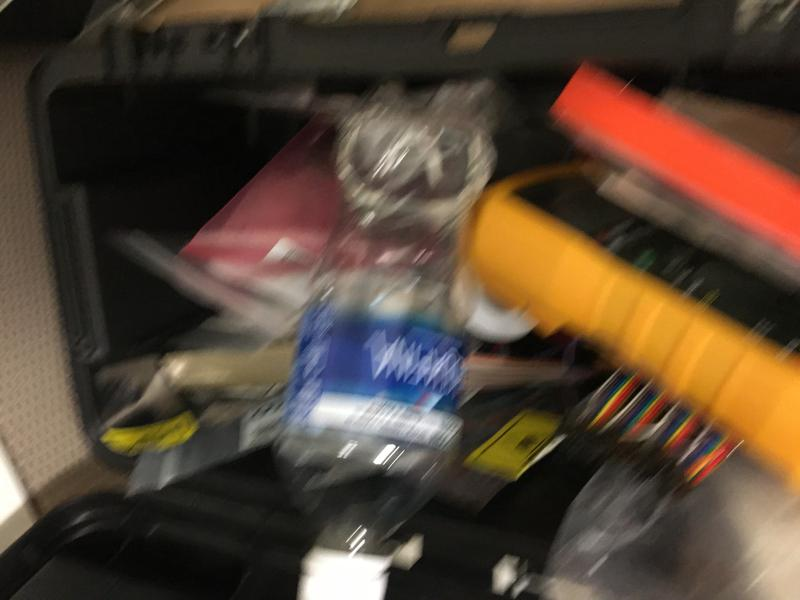bottle: (273, 81, 498, 599)
